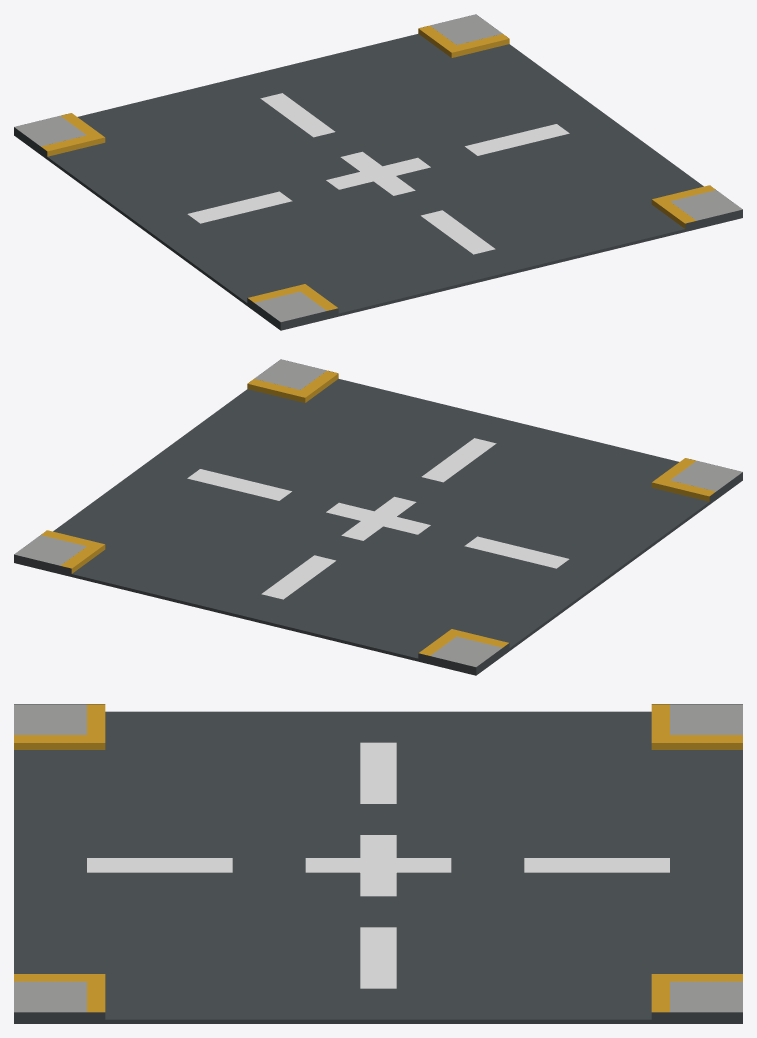
The model's file is Road_2.glb.
3 views of the same model, one above another, from view 1: azimuth 30°, elevation 25°; view 2: azimuth 150°, elevation 25°; view 3: azimuth 270°, elevation 25° (orthographic). The views are drawn at different scales.
Visible parts, largest first — view 1: Road 2; view 2: Road 2; view 3: Road 2.
Boxes of the visible parts, x1,y1,x2,y2 form: Road 2: (14,14,742,330); Road 2: (14,359,742,675); Road 2: (14,704,742,1023).
Bounding box in the file's own units: 8.86 × 0.1558 × 8.86.
